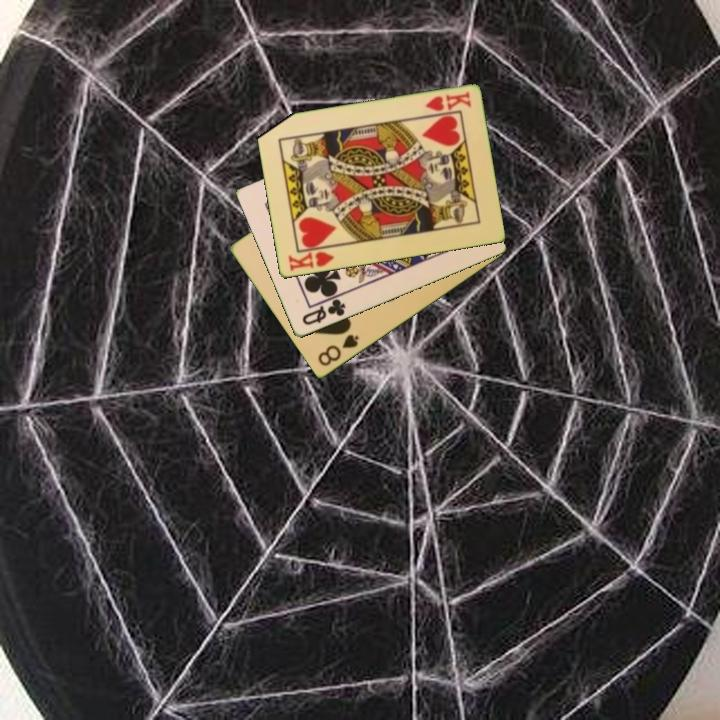8s: (314, 331, 362, 370)
Kh: (284, 243, 338, 275), (422, 88, 474, 115)
Qc: (298, 296, 348, 328)
